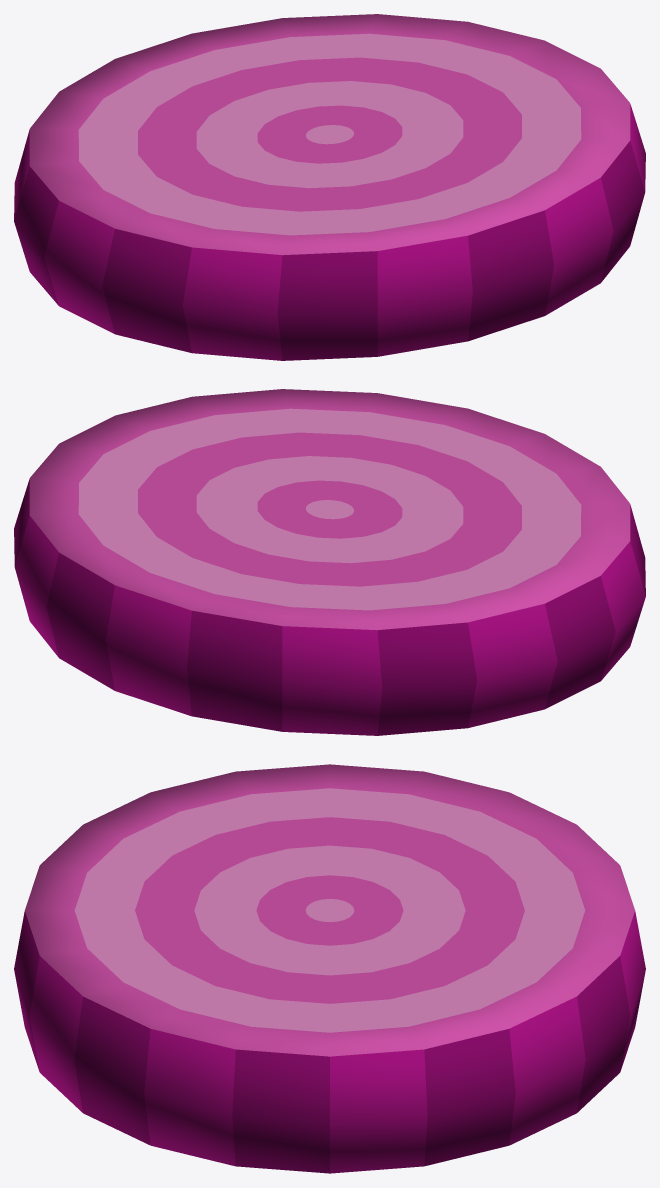
File: Onion_red_slice_Hotdog.fbx
3 views of the same model, one above another, from view 1: azimuth 30°, elevation 25°; view 2: azimuth 150°, elevation 25°; view 3: azimuth 270°, elevation 25° (orthographic). The views are drawn at different scales.
Visible parts, largest first — view 1: Onion_red_slice_Hotdog; view 2: Onion_red_slice_Hotdog; view 3: Onion_red_slice_Hotdog.
Boxes of the visible parts, x1,y1,x2,y2 form: Onion_red_slice_Hotdog: (14,14,645,360); Onion_red_slice_Hotdog: (14,389,645,735); Onion_red_slice_Hotdog: (14,764,645,1173).
Size of the model in its own units: 66.84 by 57.88 by 11.82.
